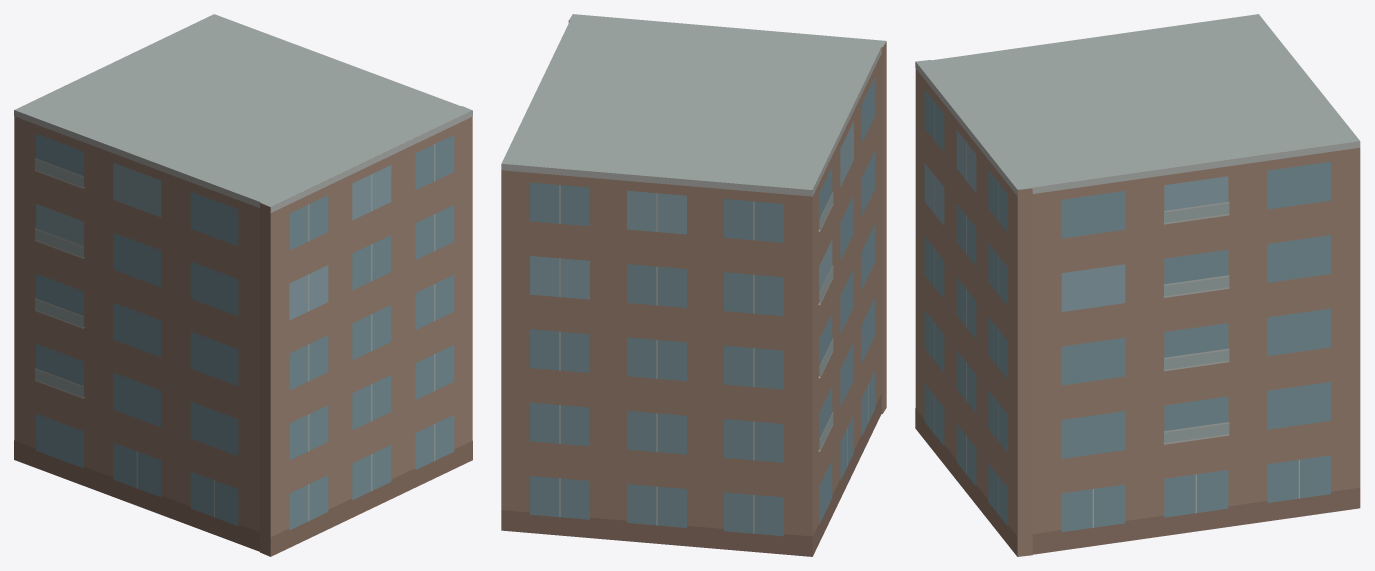
Rendered from survey-upis-32890828.glb.
3 views of the same model, side by side, from view 1: azimuth 30°, elevation 25°; view 2: azimuth 150°, elevation 25°; view 3: azimuth 270°, elevation 25° (orthographic). The views are drawn at different scales.
Visible parts, largest first — view 1: survey-upis-32890828.tmp; view 2: survey-upis-32890828.tmp; view 3: survey-upis-32890828.tmp.
Part boxes in pixels (<box>): survey-upis-32890828.tmp: <box>14,14,472,556</box>; survey-upis-32890828.tmp: <box>501,14,886,556</box>; survey-upis-32890828.tmp: <box>915,14,1360,556</box>.
Bounding box in the file's own units: 14.19 × 13.8 × 15.17.
